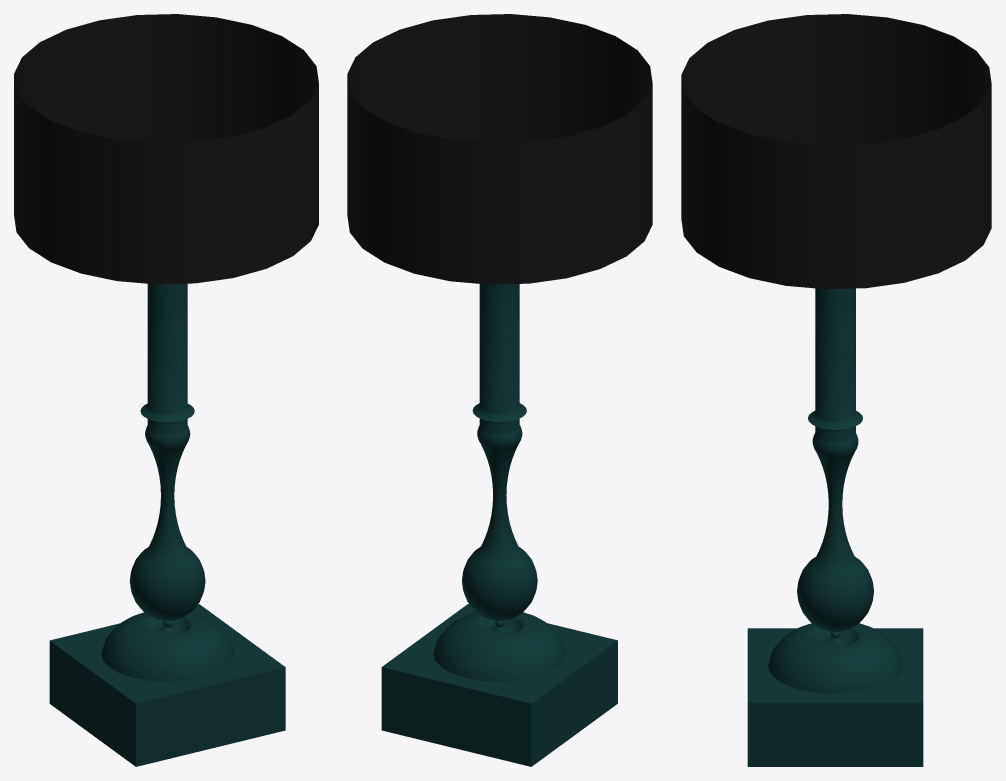
Rendered from lamp.dae.
3 renders of one model, left to right at view 1: azimuth 30°, elevation 25°; view 2: azimuth 150°, elevation 25°; view 3: azimuth 270°, elevation 25°, orthographic.
Visible parts, largest first — view 1: group_1, group_0 (×3); view 2: group_1, group_0 (×3); view 3: group_1, group_0 (×3).
Part boxes in pixels (bbox=[...]): group_1: bbox=[14, 14, 318, 284]; group_0 (×3): bbox=[49, 283, 285, 766]; group_1: bbox=[347, 14, 652, 284]; group_0 (×3): bbox=[381, 284, 617, 766]; group_1: bbox=[681, 14, 991, 289]; group_0 (×3): bbox=[747, 288, 923, 766].
Size of the model in its own units: 22.94 by 22.94 by 53.
